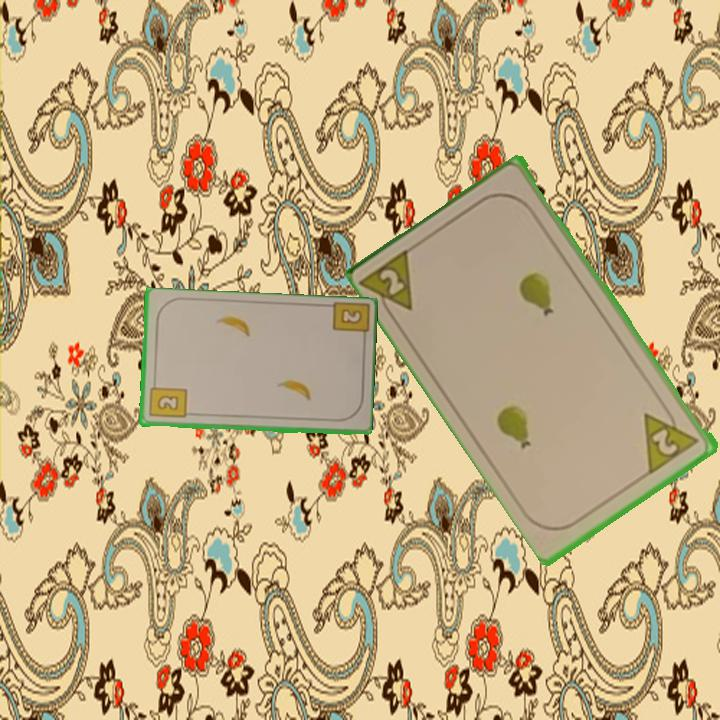2b: (328, 300, 370, 346), (146, 378, 189, 421)
2p: (358, 244, 417, 326), (640, 400, 703, 476)
